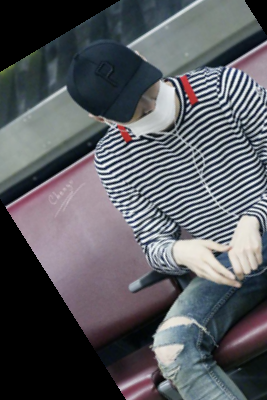mask_weared_incorrect: (59, 41, 186, 139)
